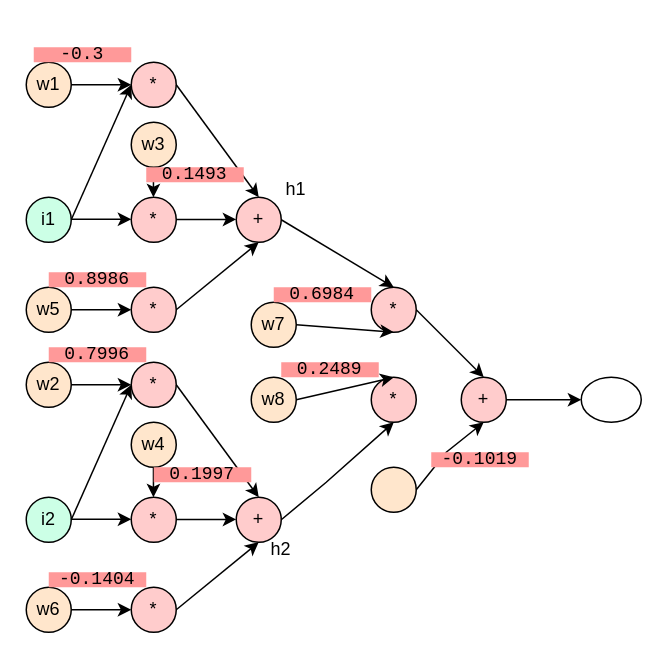
Some shapes in this 668 by 659 pixel diagram are drawn without their labels. Here are the shapes that lost their labels. From the top down, the box of each, then its label:
(580, 376, 641, 422): y_pred
(370, 466, 416, 512): w9
